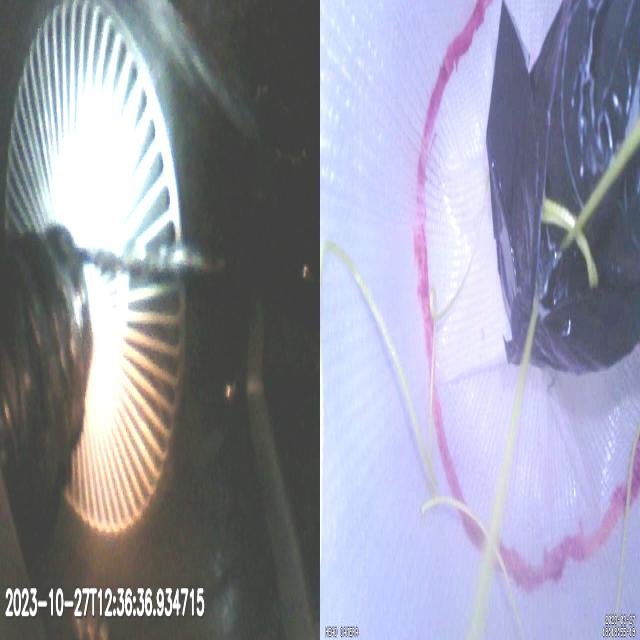red-circle: (414, 0, 640, 592)
